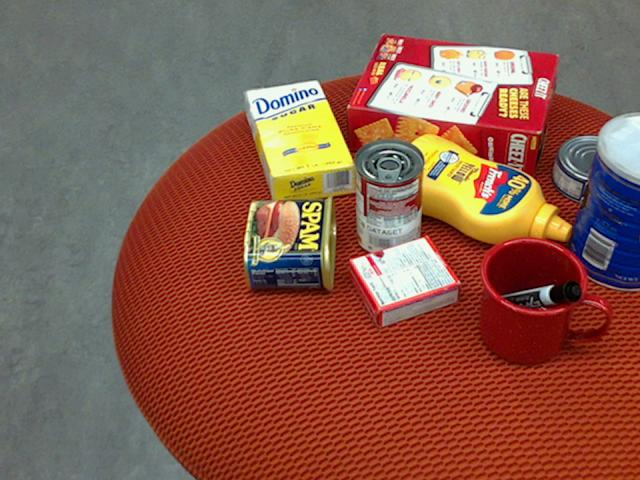cracker_box: (346, 33, 556, 175)
gelatin_box: (345, 237, 459, 329)
large_marker: (490, 278, 582, 314)
master_chef_can: (566, 112, 639, 291)
mug: (478, 236, 608, 365)
mustard_bottle: (384, 133, 571, 245)
potted_meat_can: (242, 194, 335, 290)
sugar_box: (243, 79, 356, 207)
tomato_soup_can: (353, 136, 423, 256)
tuna_fish_can: (550, 134, 635, 204)
